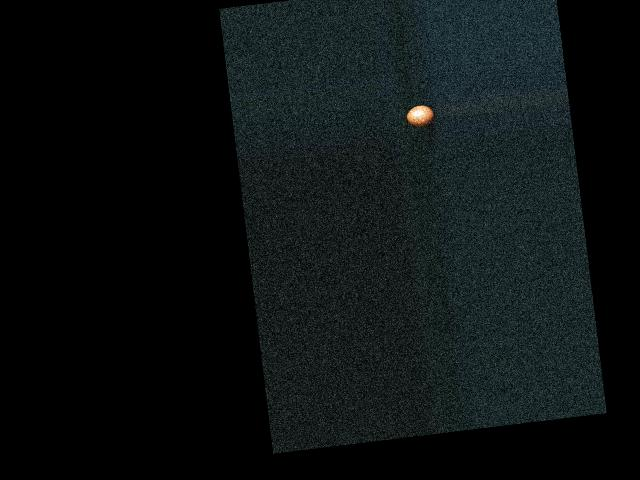egg: (406, 104, 435, 128)
